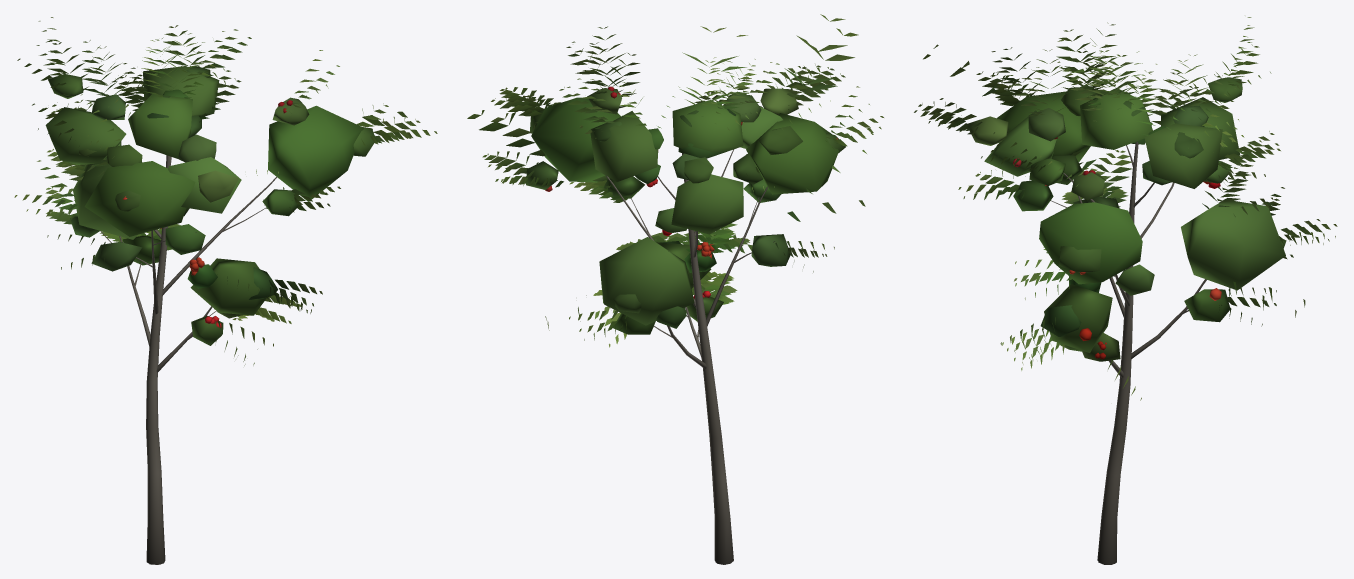
File: rowan.glb
3 views of the same model, side by side, from view 1: azimuth 30°, elevation 25°; view 2: azimuth 150°, elevation 25°; view 3: azimuth 270°, elevation 25° (orthographic). The views are drawn at different scales.
Visible parts, largest first — view 1: rowan-lo, rowan; view 2: rowan-lo, rowan; view 3: rowan, rowan-lo.
Part boxes in pixels (box(x1,y1,x2,y2)): rowan-lo: box(45, 66, 407, 564); rowan: box(14, 17, 437, 564); rowan-lo: box(467, 14, 866, 564); rowan: box(482, 26, 883, 564); rowan: box(914, 17, 1337, 564); rowan-lo: box(923, 39, 1305, 563).
Size of the model in its own units: 7.2 by 9.43 by 6.88.
